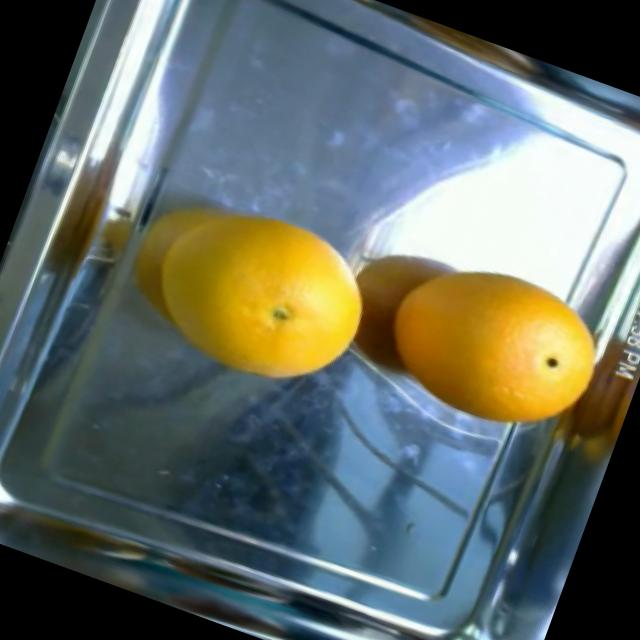Fruit: (159, 180, 408, 428)
